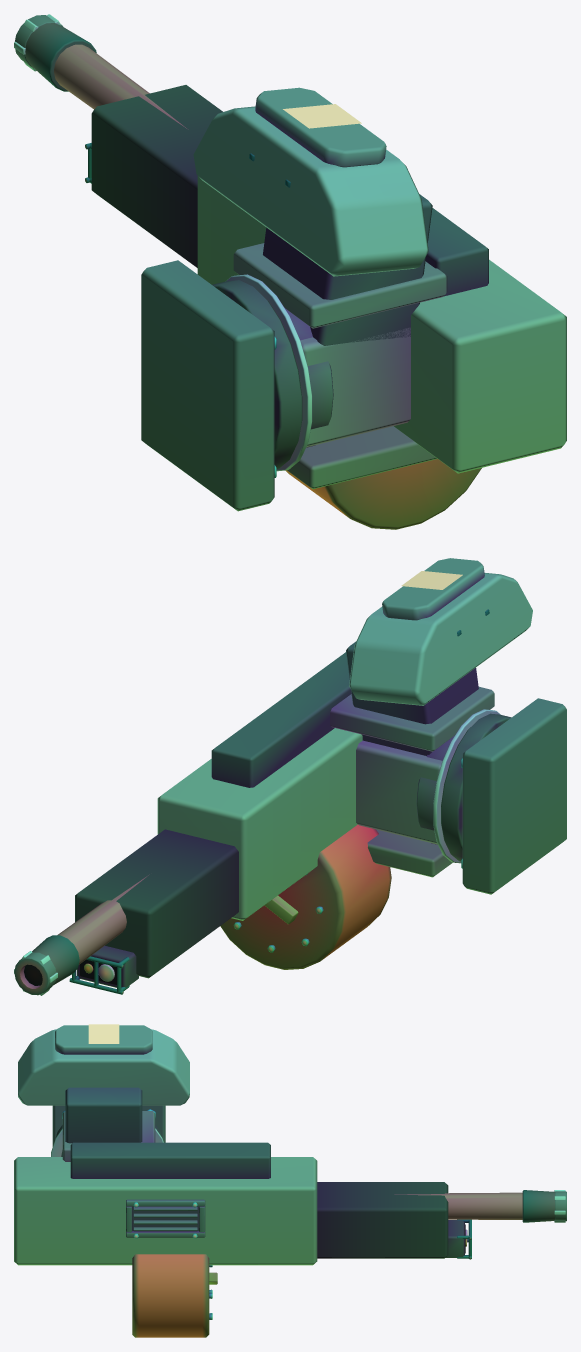
File: arm_aa12.glb
3 views of the same model, one above another, from view 1: azimuth 30°, elevation 25°; view 2: azimuth 150°, elevation 25°; view 3: azimuth 270°, elevation 25° (orthographic). The views are drawn at different scales.
Parts seen in each view (by area): view 1: Body__armor, Body__gunmetal, Body__dark, Body__armor_sub, Body__rubber, Body__armor_oxide, Body__chrome, Body__decal; view 2: Body__armor, Body__gunmetal, Body__dark, Body__rubber, Body__armor_oxide, Body__armor_sub, Body__chrome, Body__decal, Body__bore; view 3: Body__armor, Body__dark, Body__rubber, Body__armor_oxide, Body__gunmetal, Body__armor_sub, Body__chrome, Body__decal.
Boxes of the visible parts, box(x1,y1,x2,y2) form: Body__armor: box(193, 106, 566, 473); Body__gunmetal: box(15, 15, 333, 511); Body__dark: box(25, 23, 488, 468); Body__armor_sub: box(233, 87, 447, 489); Body__rubber: box(91, 85, 222, 267); Body__armor_oxide: box(285, 459, 481, 529); Body__chrome: box(14, 14, 312, 477); Body__decal: box(283, 104, 361, 128); Body__armor: box(157, 573, 532, 920); Body__gunmetal: box(14, 698, 566, 995); Body__dark: box(32, 609, 511, 987); Body__rubber: box(75, 829, 238, 978); Body__armor_oxide: box(220, 824, 391, 969); Body__armor_sub: box(330, 558, 494, 877); Body__chrome: box(14, 709, 500, 995); Body__decal: box(401, 571, 462, 589); Body__bore: box(24, 959, 116, 985); Body__armor: box(14, 1029, 317, 1265); Body__dark: box(53, 1087, 554, 1257); Body__rubber: box(317, 1182, 448, 1258); Body__armor_oxide: box(132, 1254, 209, 1337); Body__gunmetal: box(52, 1105, 566, 1259); Body__armor_sub: box(55, 1025, 155, 1161); Body__chrome: box(51, 1109, 565, 1319); Body__decal: box(88, 1024, 119, 1043).
Size of the model in its own units: 0.866 by 1.15 by 2.15.
